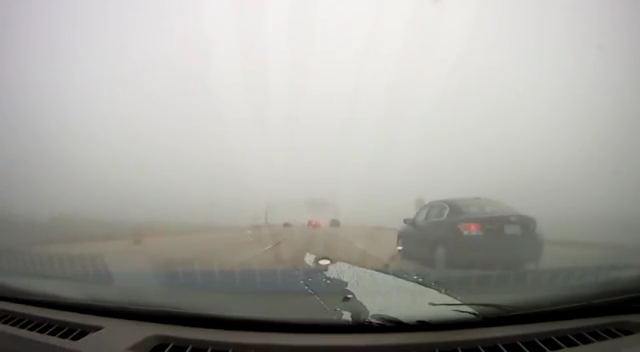car: (396, 198, 540, 270), (329, 218, 341, 228), (307, 219, 320, 228), (282, 221, 293, 228)
